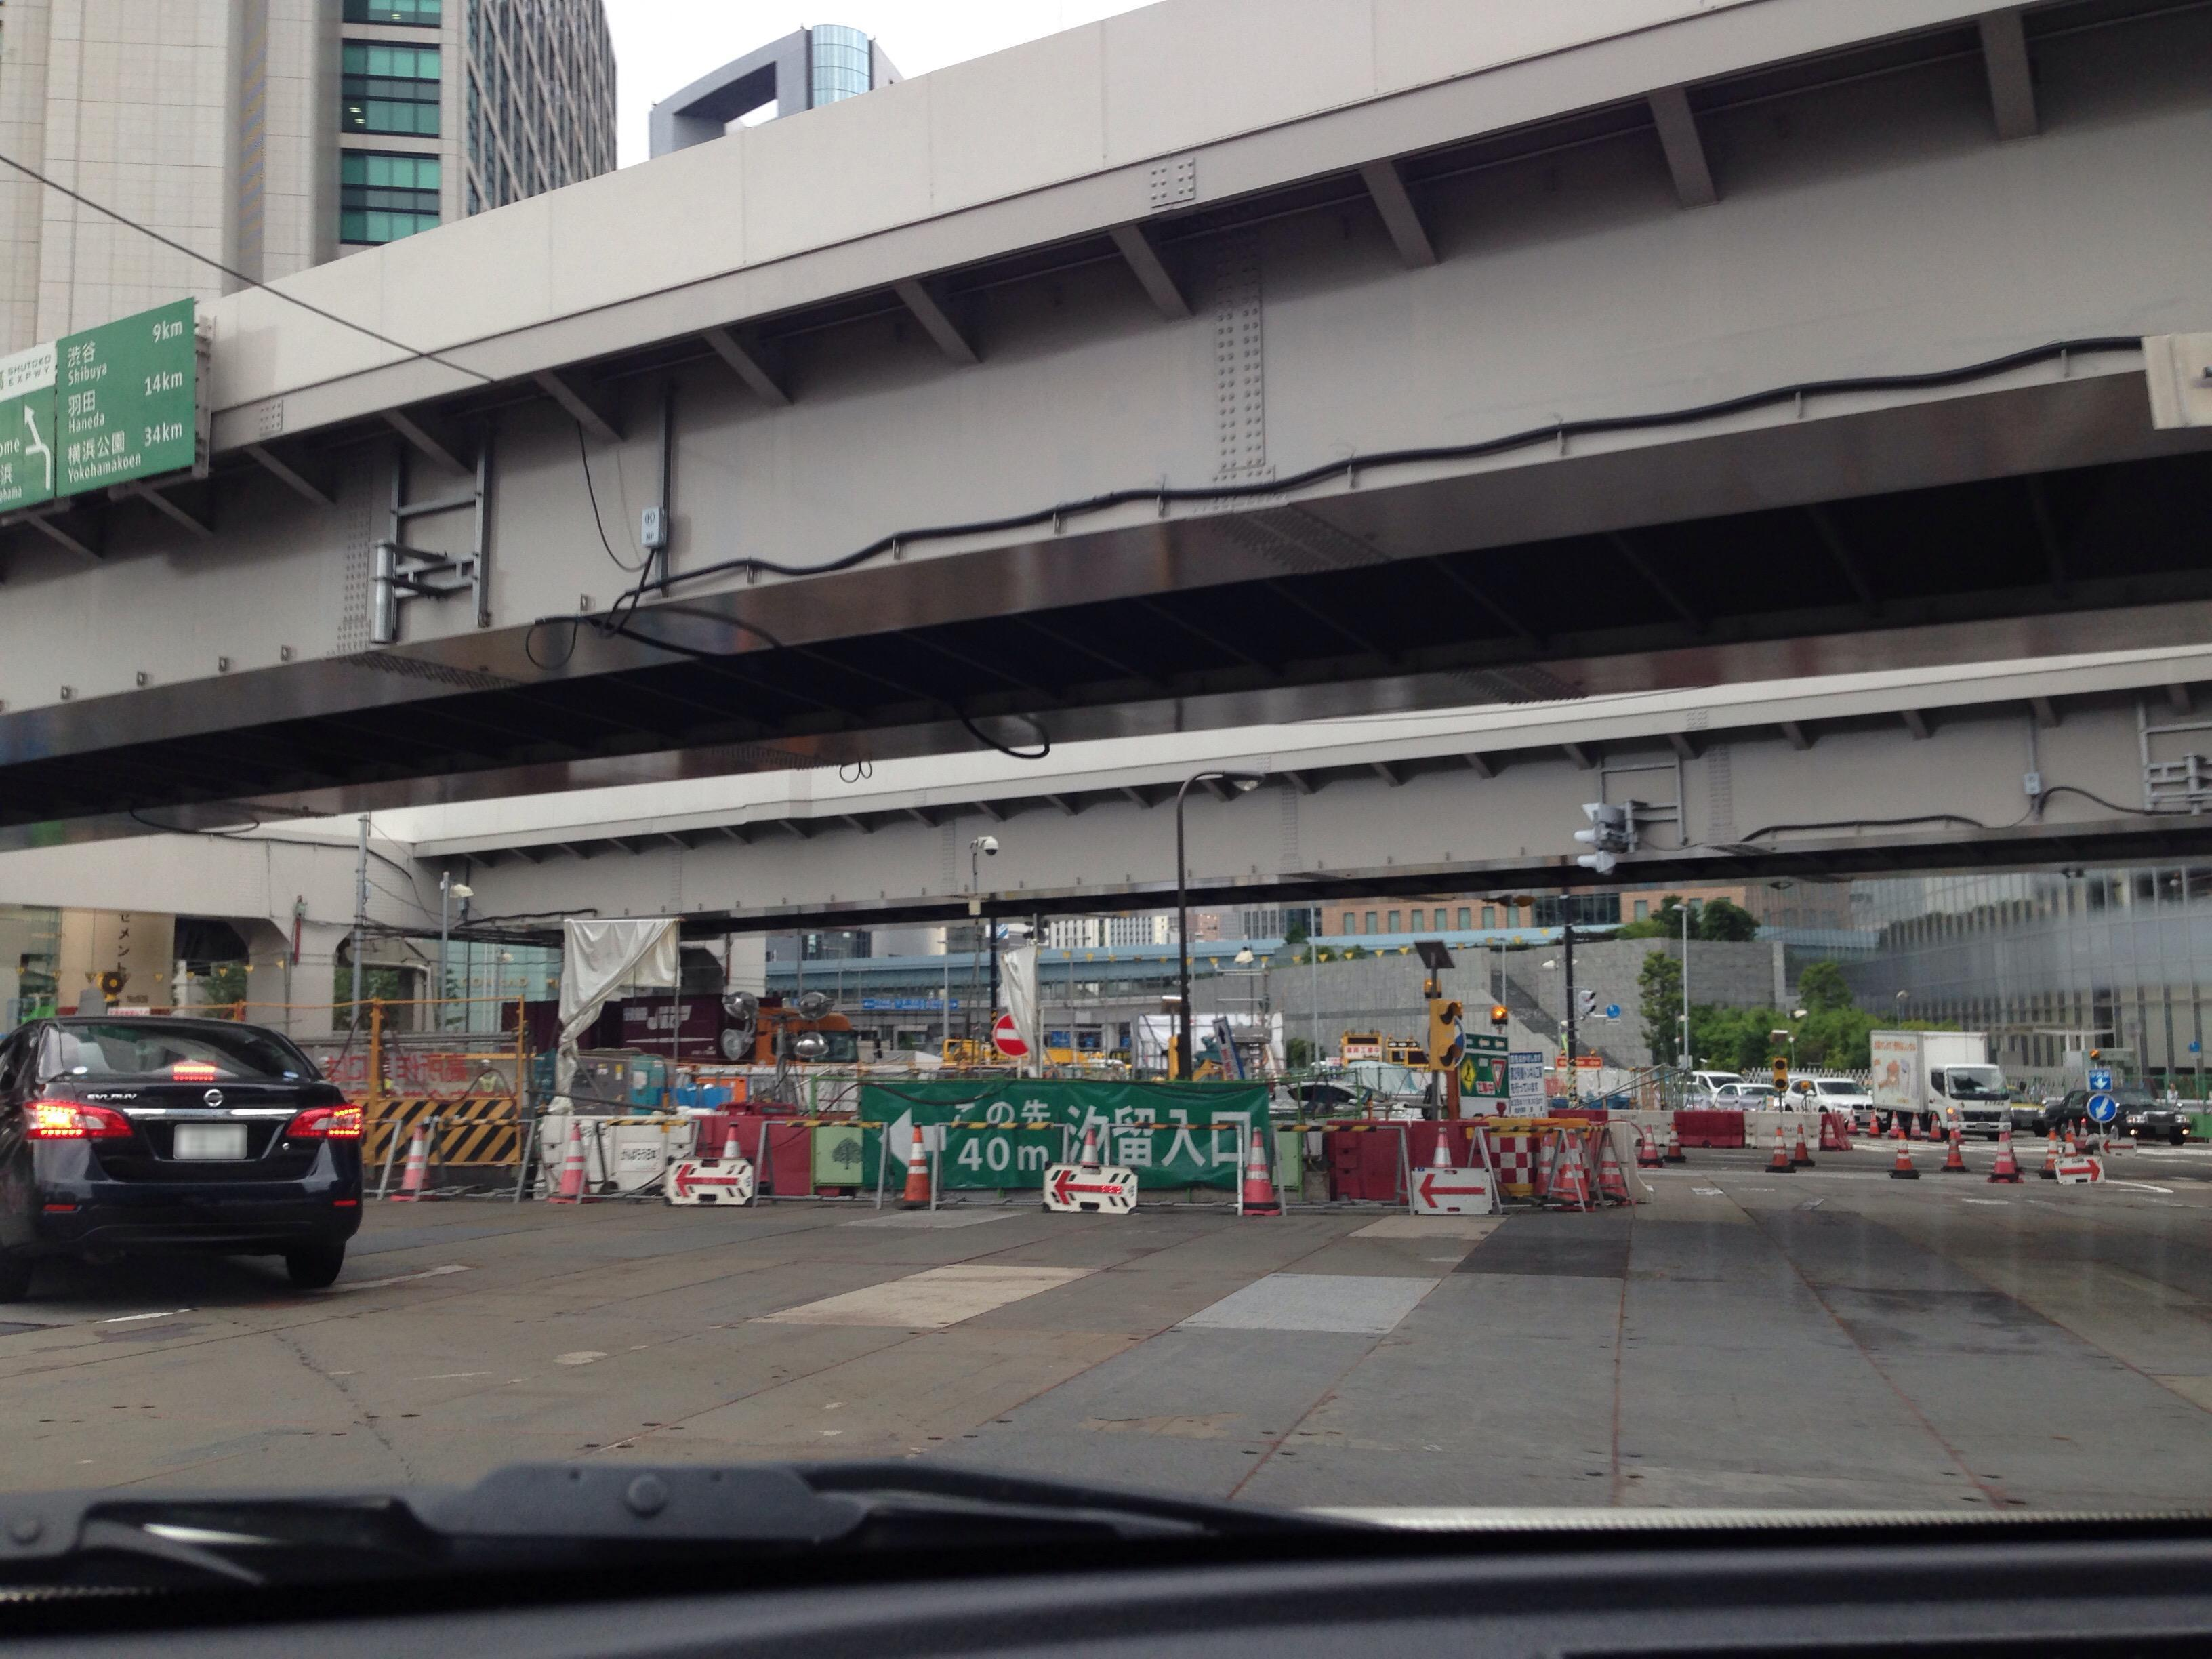vinyl banner: (834, 1040, 1284, 1202)
